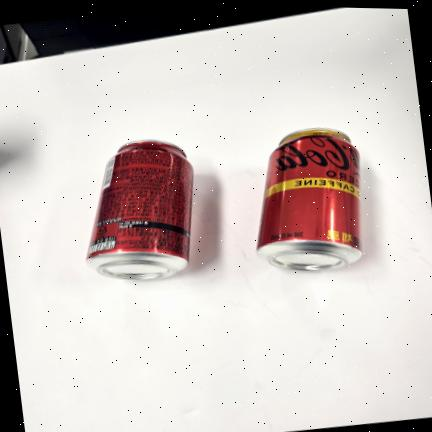can_coke_decaf: (254, 125, 363, 270)
can_coke_zero: (88, 139, 191, 282)
